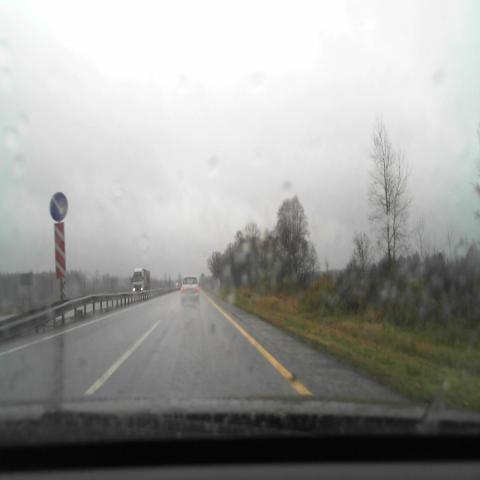4_2_1: (50, 192, 67, 221)
